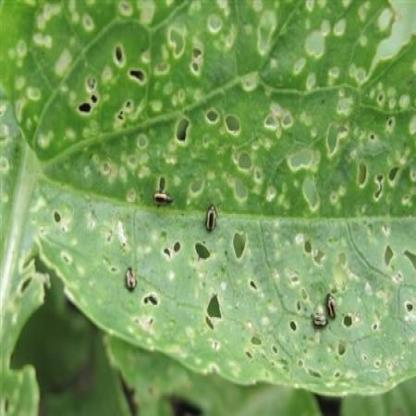beetle: (152, 188, 176, 207), (323, 294, 340, 320), (205, 205, 219, 235), (122, 268, 137, 296), (313, 312, 328, 330)
